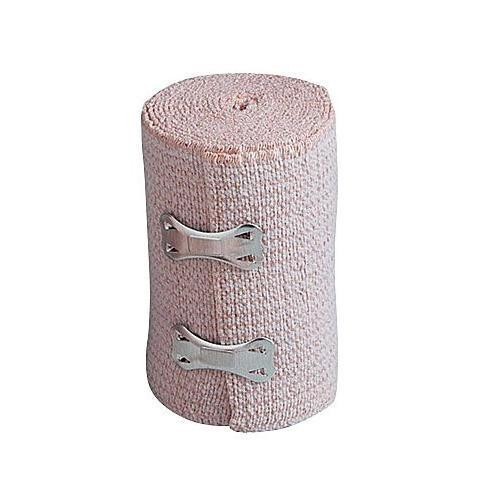bandage: (139, 73, 339, 433)
